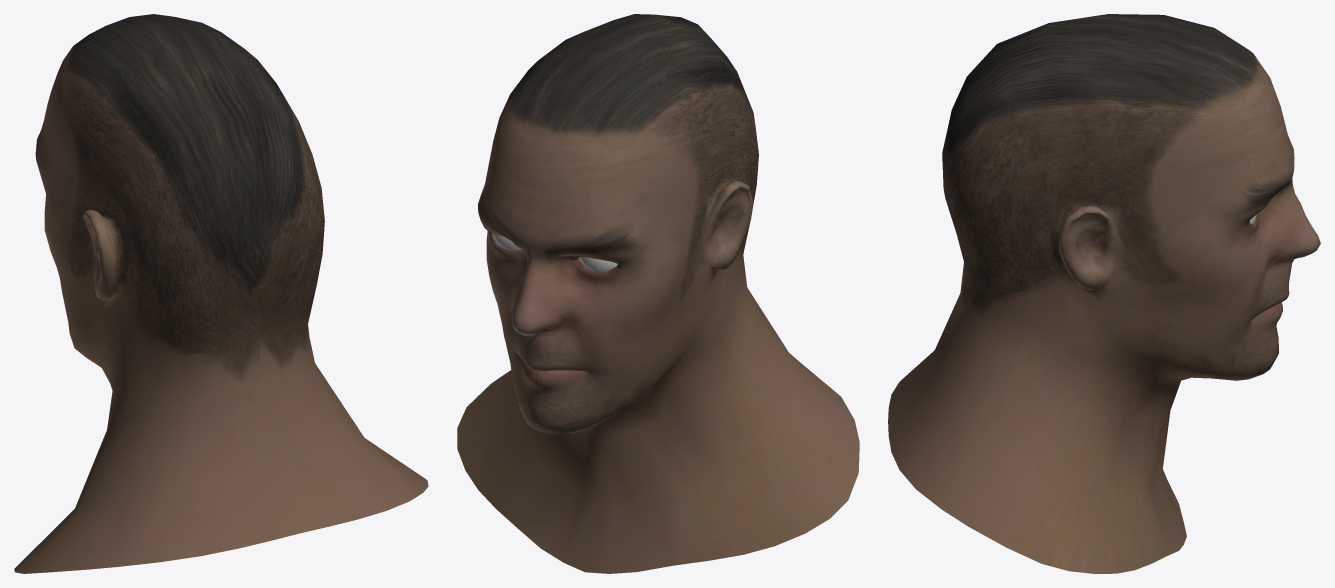
File: G3_Head_Hero_Myrtana_Animated_06_S07.obj
3 renders of one model, left to right at view 1: azimuth 30°, elevation 25°; view 2: azimuth 150°, elevation 25°; view 3: azimuth 270°, elevation 25°, orthographic. The views are drawn at different scales.
Parts seen in each view (by area): view 1: G3_Animation_Head_Main_06; view 2: G3_Animation_Head_Main_06; view 3: G3_Animation_Head_Main_06.
Part boxes in pixels (x1,y1,x2,y2): G3_Animation_Head_Main_06: (14, 14, 428, 573); G3_Animation_Head_Main_06: (457, 14, 859, 573); G3_Animation_Head_Main_06: (888, 14, 1320, 573).
Bounding box in the file's own units: 0.259 × 0.3321 × 0.254.
